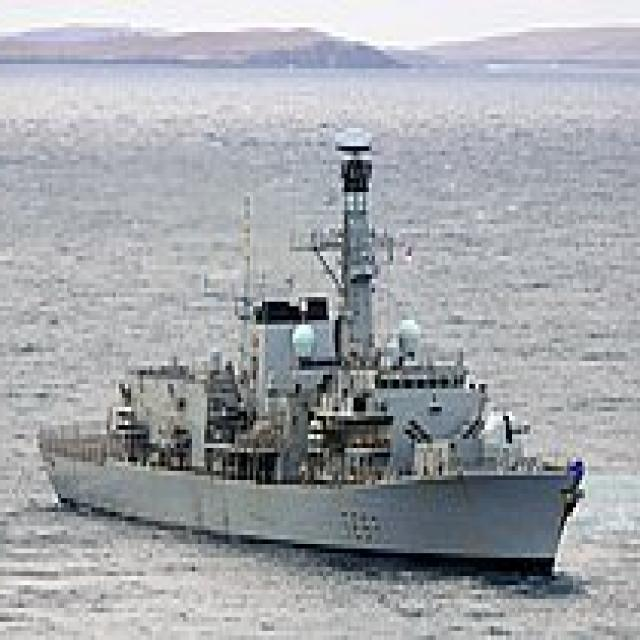Warship: (37, 119, 594, 576)
